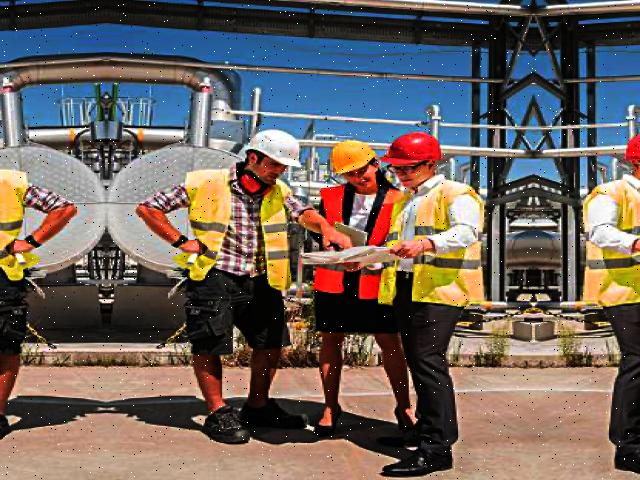Helmet: (241, 125, 309, 170), (382, 127, 448, 173), (327, 136, 382, 180)
